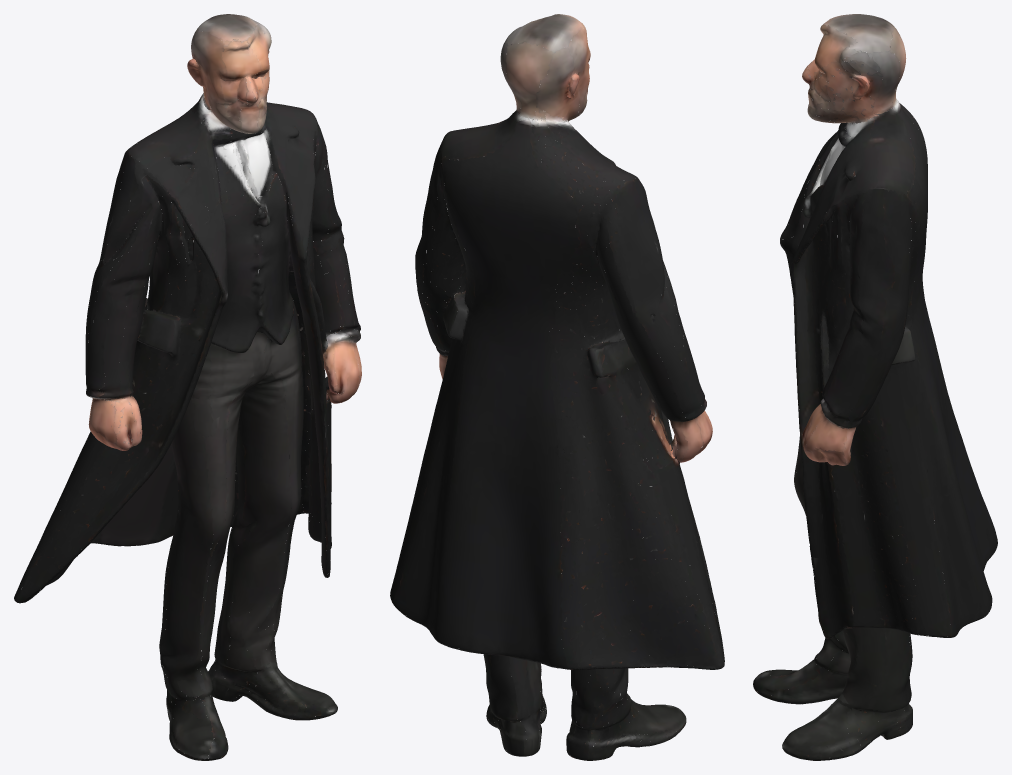
Rendered from char_old_m_top.glb.
3 views of the same model, side by side, from view 1: azimuth 30°, elevation 25°; view 2: azimuth 150°, elevation 25°; view 3: azimuth 270°, elevation 25° (orthographic). The views are drawn at different scales.
Visible parts, largest first — view 1: geometry_0; view 2: geometry_0; view 3: geometry_0.
Part boxes in pixels (x1,y1,x2,y2): geometry_0: (14, 14, 361, 760); geometry_0: (390, 14, 724, 760); geometry_0: (753, 14, 997, 760).
Bounding box in the file's own units: 0.8695 × 1.85 × 0.5818.
1 material, 1 textured.
